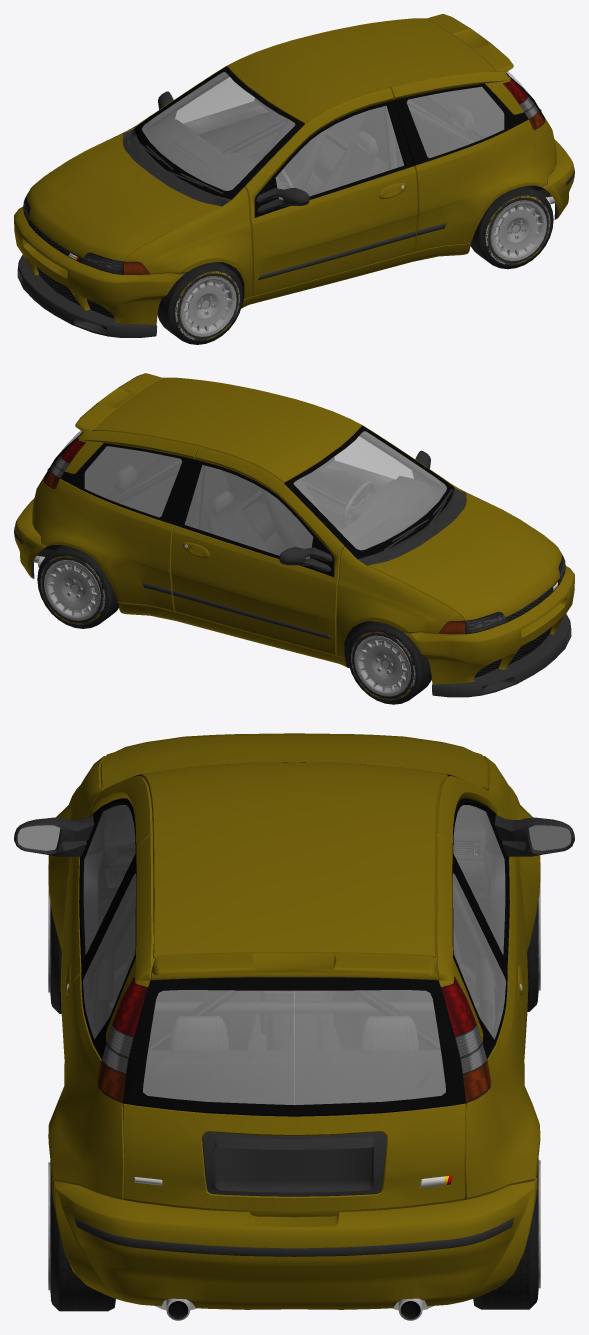
Rendered from MILANO95RM.fbx.
3 renders of one model, top to bottom at view 1: azimuth 30°, elevation 25°; view 2: azimuth 150°, elevation 25°; view 3: azimuth 270°, elevation 25°, orthographic. The views are drawn at different scales.
Parts seen in each view (by area): view 1: MILANO95RM_Body, MILANO95RM_Glass, MILANO95RM_interior, MILANO95RM_Bottom, MILANO95RM_Hood, MILANO95RM_Bumper_Front, MILANO95RM_Wheel_FL, MILANO95RM_Wheel_RL, MILANO95RM_Bumper_Front_inner, MILANO95RM_Bumper_rear, MILANO95RM_Headlights, MILANO95RM_Turnsignals; view 2: MILANO95RM_Body, MILANO95RM_Glass, MILANO95RM_interior, MILANO95RM_Bottom, MILANO95RM_Hood, MILANO95RM_Bumper_Front, MILANO95RM_Wheel_FR, MILANO95RM_Wheel_RR, MILANO95RM_Bumper_Front_inner, MILANO95RM_Bumper_rear, MILANO95RM_Headlights, MILANO95RM_Turnsignals (+1 smaller); view 3: MILANO95RM_Body, MILANO95RM_Glass, MILANO95RM_Bottom, MILANO95RM_Bumper_rear, MILANO95RM_interior, MILANO95RM_Hood, MILANO95RM_Bumper_rear_inner, MILANO95RM_Wheel_RL, MILANO95RM_Wheel_RR, MILANO95RM_Brakelights, MILANO95RM_Reverse, MILANO95RM_Turnsignals (+2 smaller).
Part boxes in pixels (x1,y1,x2,y2): MILANO95RM_Body: (39,14,556,308); MILANO95RM_Glass: (142,71,532,199); MILANO95RM_interior: (142,75,504,199); MILANO95RM_Bottom: (29,66,555,308); MILANO95RM_Hood: (26,134,220,261); MILANO95RM_Bumper_Front: (14,206,184,324); MILANO95RM_Wheel_FL: (157,262,243,344); MILANO95RM_Wheel_RL: (470,185,553,269); MILANO95RM_Bumper_Front_inner: (17,254,184,337); MILANO95RM_Bumper_rear: (542,139,574,219); MILANO95RM_Headlights: (23,193,124,274); MILANO95RM_Turnsignals: (123,110,545,274); MILANO95RM_Body: (32,373,554,667); MILANO95RM_Glass: (57,430,446,558); MILANO95RM_interior: (84,432,446,558); MILANO95RM_Bottom: (33,425,559,667); MILANO95RM_Hood: (368,494,562,620); MILANO95RM_Bumper_Front: (404,566,574,684); MILANO95RM_Wheel_FR: (347,621,431,704); MILANO95RM_Wheel_RR: (37,545,118,628); MILANO95RM_Bumper_Front_inner: (404,614,571,697); MILANO95RM_Bumper_rear: (14,498,46,578); MILANO95RM_Headlights: (464,553,565,634); MILANO95RM_Turnsignals: (43,470,465,634); MILANO95RM_Body: (48,756,540,1217); MILANO95RM_Glass: (83,805,505,1105); MILANO95RM_Bottom: (14,762,574,1320); MILANO95RM_Bumper_rear: (51,1177,537,1309); MILANO95RM_interior: (83,805,505,1131); MILANO95RM_Hood: (100,733,488,790); MILANO95RM_Bumper_rear_inner: (74,1179,534,1256); MILANO95RM_Wheel_RL: (48,1161,115,1311); MILANO95RM_Wheel_RR: (473,1158,540,1309); MILANO95RM_Brakelights: (112,976,476,1036); MILANO95RM_Reverse: (101,1024,487,1073); MILANO95RM_Turnsignals: (97,1061,491,1103).
Size of the model in its own units: 3906 by 1432 by 1930.
